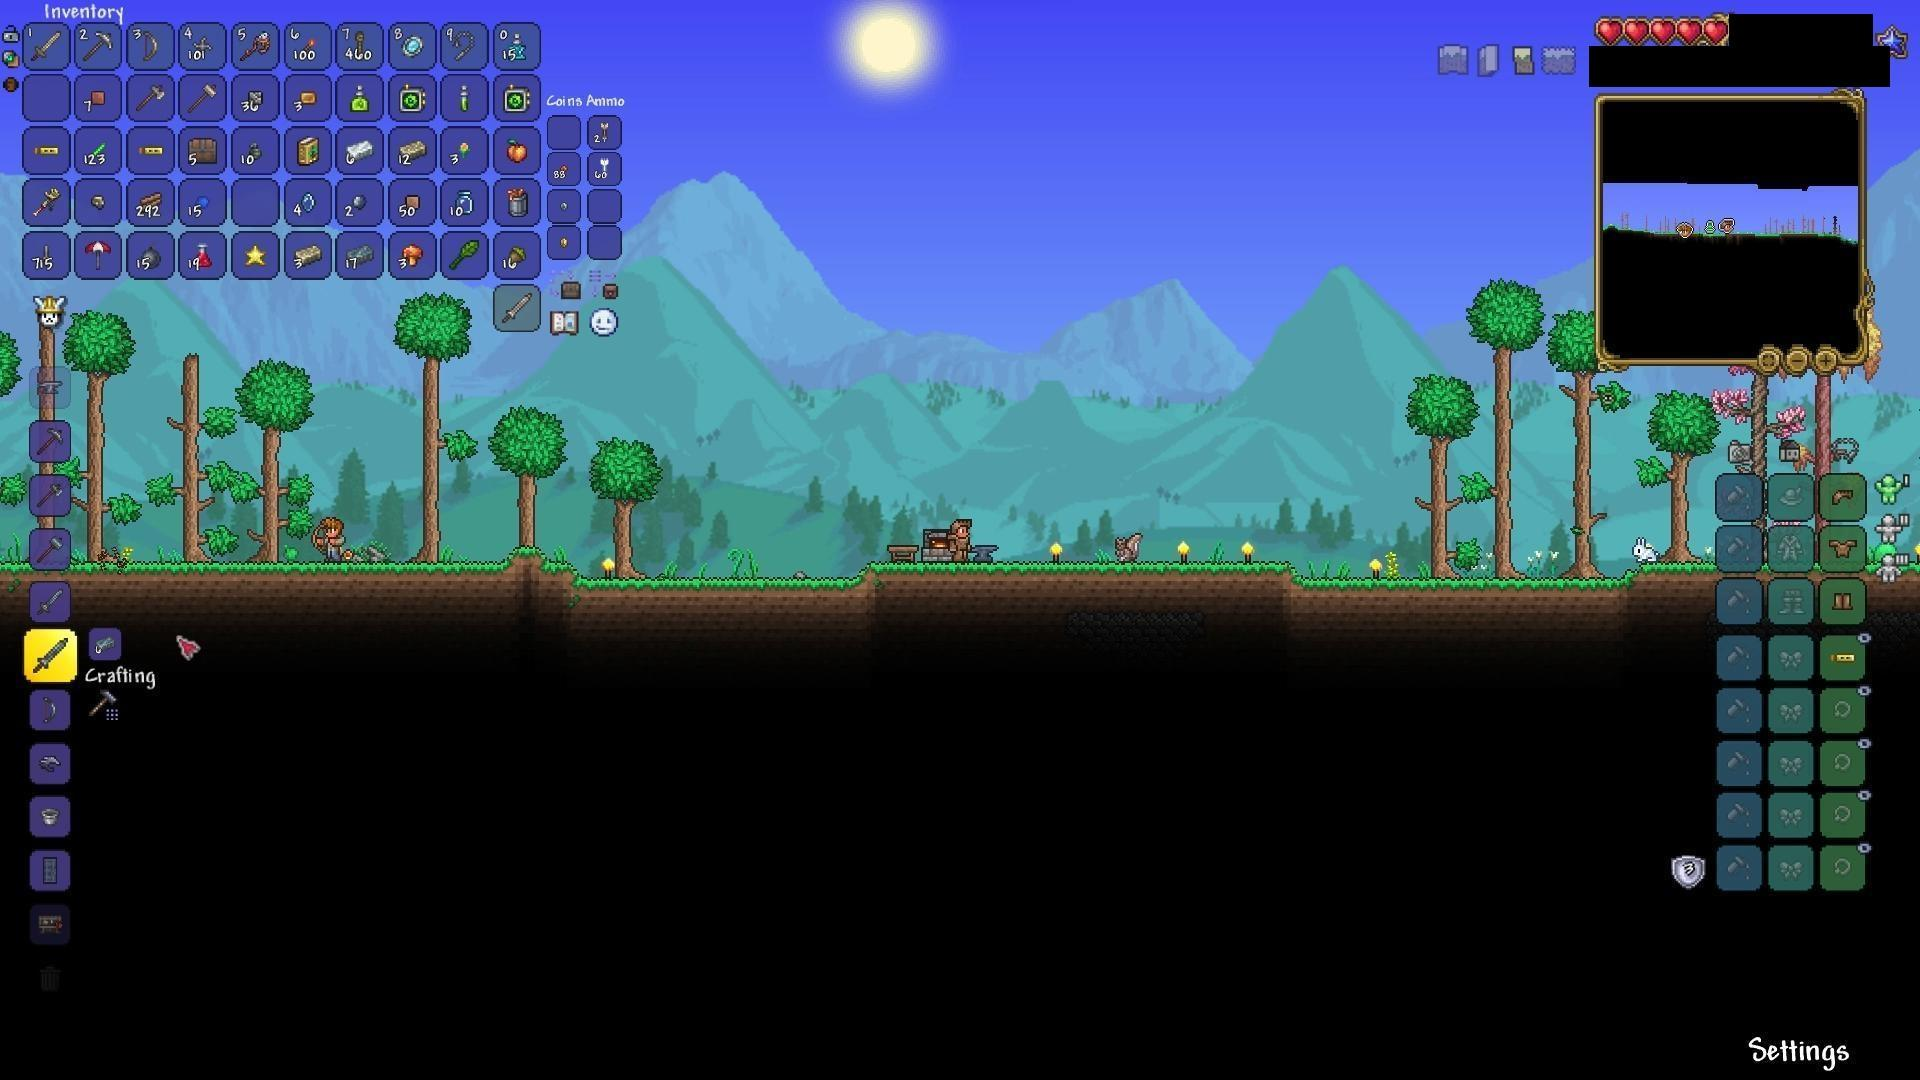dirt: (76, 549, 1717, 595)
heart: (1702, 17, 1733, 51), (1593, 16, 1626, 46), (1676, 15, 1704, 50), (1650, 16, 1676, 49), (1625, 15, 1651, 44)
tree: (1547, 324, 1611, 575), (401, 298, 462, 560), (1473, 270, 1520, 580), (71, 306, 128, 559), (1411, 371, 1469, 587), (587, 430, 655, 585), (245, 365, 298, 560), (1644, 388, 1702, 560), (497, 407, 551, 560), (173, 343, 210, 560)
